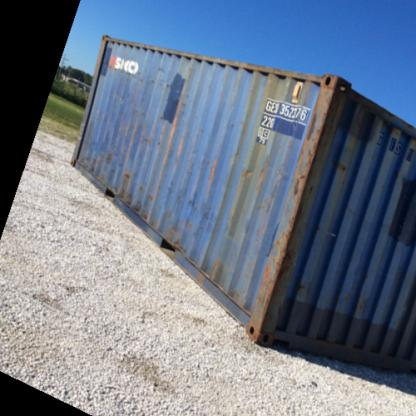Damage: (280, 90, 330, 206), (254, 219, 289, 324), (126, 64, 178, 88), (233, 155, 270, 187), (216, 68, 246, 106), (196, 154, 218, 198), (166, 210, 194, 244), (330, 154, 356, 190), (202, 252, 228, 284), (292, 266, 314, 302), (81, 150, 114, 172), (138, 179, 158, 207), (116, 164, 134, 193), (134, 131, 166, 147), (175, 84, 190, 116), (113, 116, 130, 140), (105, 90, 129, 106), (176, 128, 186, 159)
